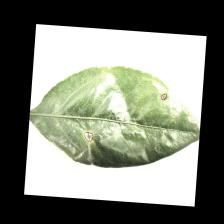canker: (74, 82, 179, 151)
